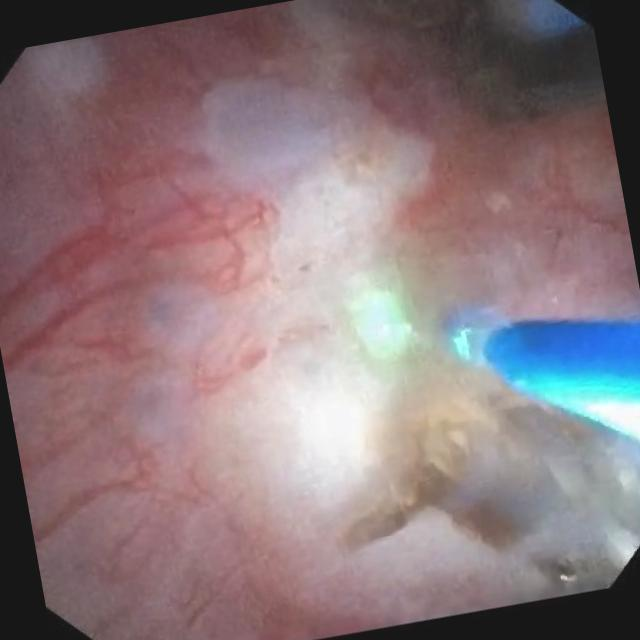laser-fibre: (459, 329, 495, 365)
laser_dot: (351, 287, 416, 359)
stone-new: (348, 388, 622, 553), (362, 0, 604, 119), (538, 563, 582, 585)
